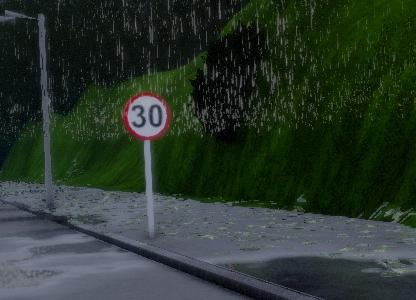Speed_30: (123, 87, 170, 142)
